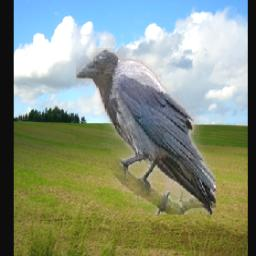Crow: (77, 49, 217, 216)
